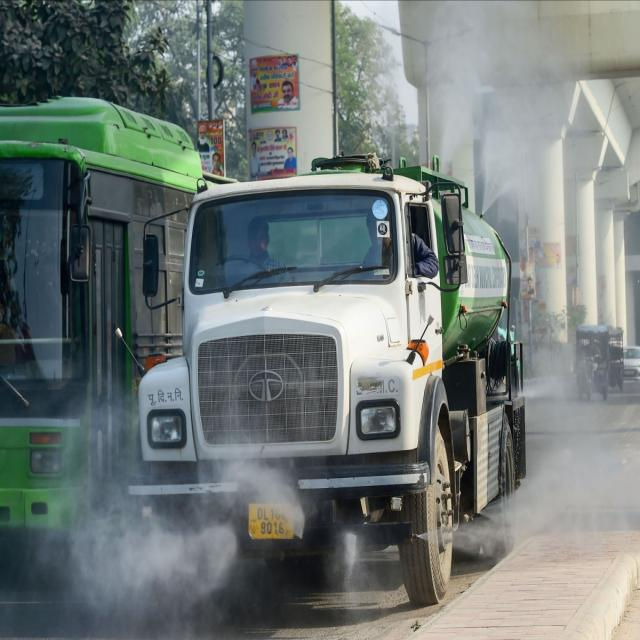bus: (0, 97, 201, 531)
truck: (129, 155, 526, 605)
